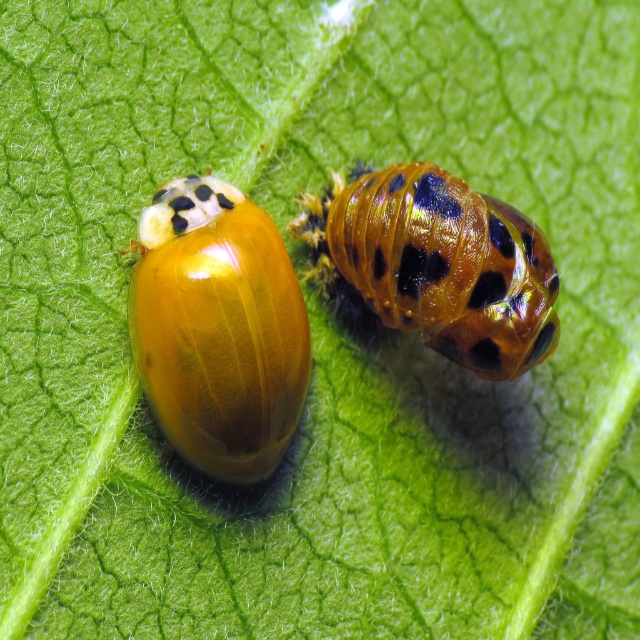Ladybug: (129, 169, 313, 480)
